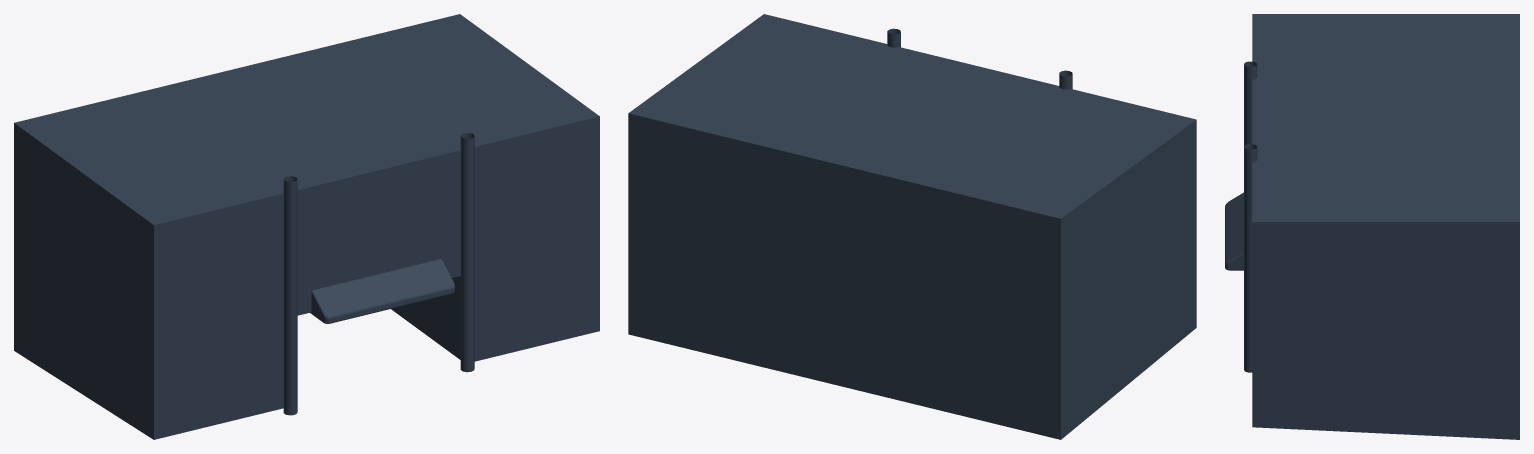
File: Lego factory.fbx
3 views of the same model, side by side, from view 1: azimuth 30°, elevation 25°; view 2: azimuth 150°, elevation 25°; view 3: azimuth 270°, elevation 25° (orthographic). The views are drawn at different scales.
Visible parts, largest first — view 1: factory; view 2: factory; view 3: factory.
Part boxes in pixels (x1,y1,x2,y2): factory: (14,14,599,439); factory: (628,14,1196,439); factory: (1225,14,1519,439).
Size of the model in its own units: 3059 by 1831 by 1584.
